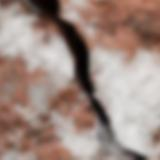broken_brick: (0, 4, 115, 159), (60, 0, 159, 155), (0, 0, 13, 6)
crack: (0, 0, 159, 159)
